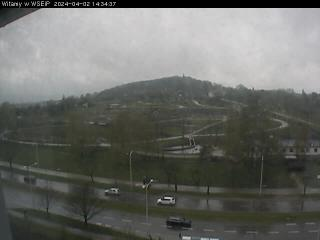car: (166, 214, 192, 228), (156, 194, 176, 206), (103, 187, 120, 196), (24, 174, 36, 182)
